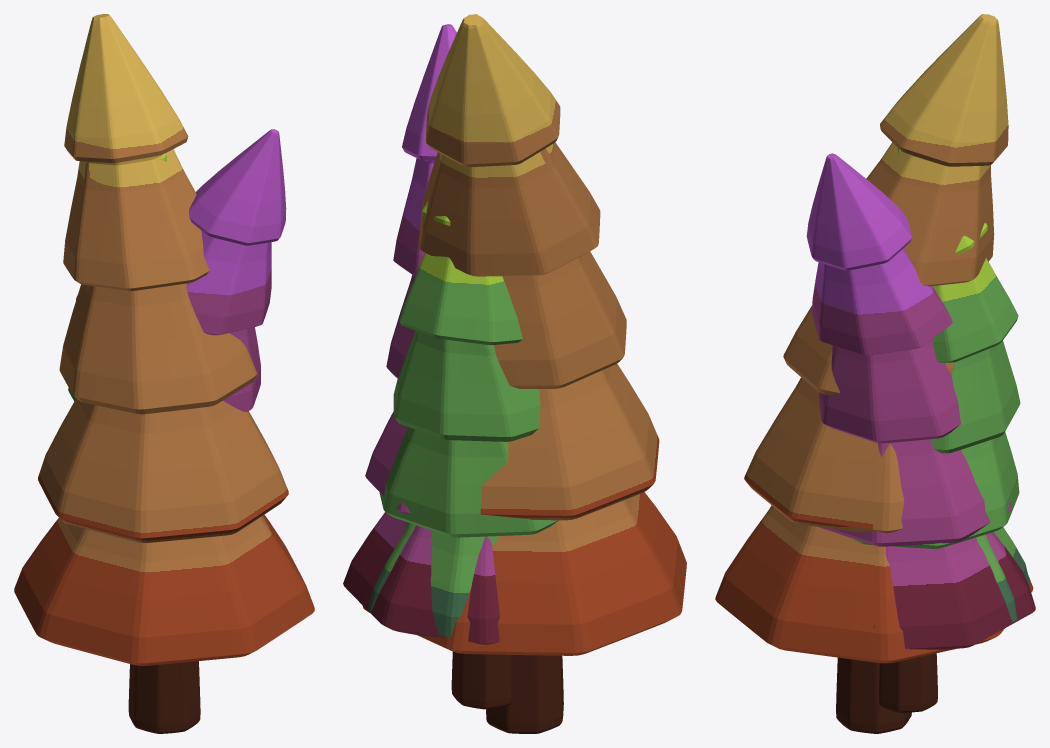
File: arcs.fbx
3 views of the same model, side by side, from view 1: azimuth 30°, elevation 25°; view 2: azimuth 150°, elevation 25°; view 3: azimuth 270°, elevation 25° (orthographic). The views are drawn at different scales.
Visible parts, largest first — view 1: arc3, arc1; view 2: arc3, arc2, arc1; view 3: arc3, arc1, arc2.
Boxes of the visible parts, x1,y1,x2,y2 form: arc3: (14, 14, 314, 733); arc1: (186, 129, 286, 411); arc3: (363, 14, 686, 733); arc2: (368, 201, 558, 637); arc1: (343, 24, 512, 709); arc3: (715, 14, 1033, 733); arc1: (806, 153, 1035, 712); arc2: (853, 148, 1029, 621).
Bounding box in the file's own units: 265 × 641 × 266.
3 materials, 3 textured.
